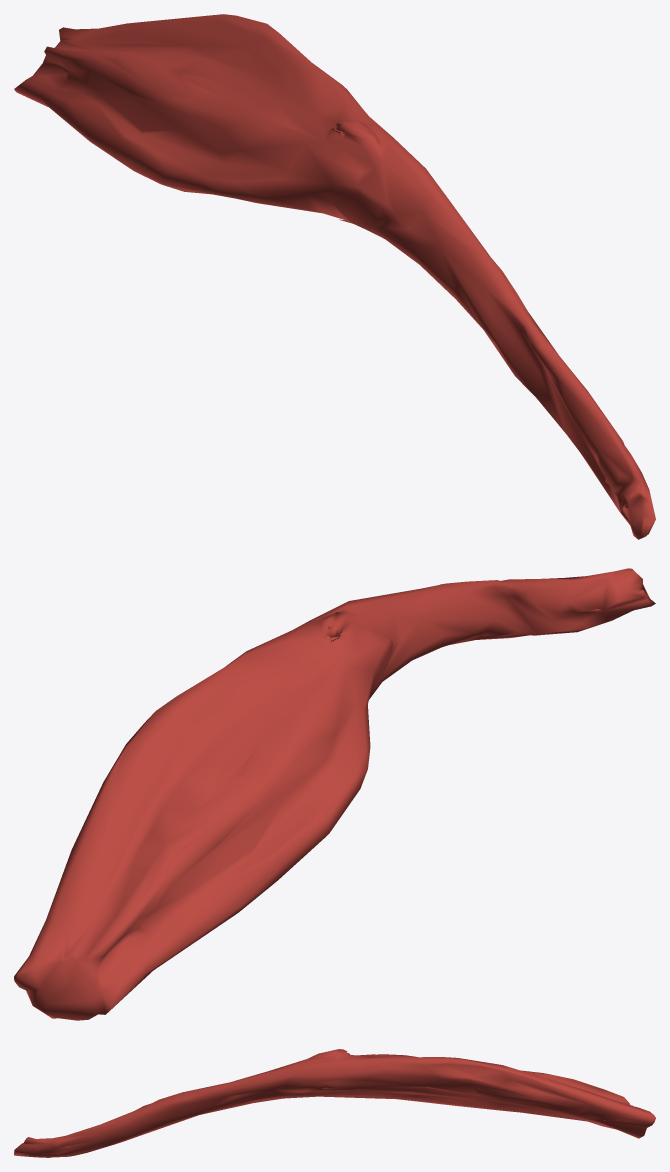
File: musculos-abductor-hallucis-r.glb
The picture shows the model from 3 angles, top to bottom: view 1: azimuth 30°, elevation 25°; view 2: azimuth 150°, elevation 25°; view 3: azimuth 270°, elevation 25°; orthographic projection. The views are drawn at different scales.
Parts seen in each view (by area): view 1: Abductor hallucis.r; view 2: Abductor hallucis.r; view 3: Abductor hallucis.r.
Boxes of the visible parts, x1=… form: Abductor hallucis.r: x1=14, y1=14, x2=655, y2=539; Abductor hallucis.r: x1=14, y1=568, x2=655, y2=1020; Abductor hallucis.r: x1=14, y1=1049, x2=655, y2=1157.
Bounding box in the file's own units: 0.0202 × 0.0269 × 0.1448.
